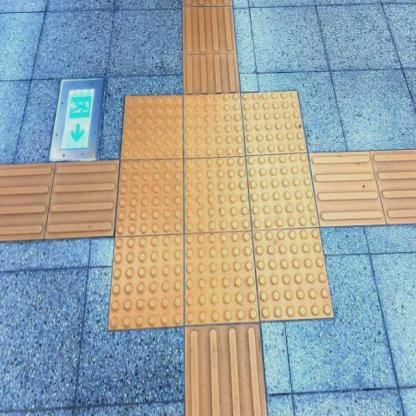podotacti: (74, 55, 359, 366), (0, 162, 114, 238), (322, 144, 416, 230), (185, 325, 269, 416), (183, 0, 242, 90)
